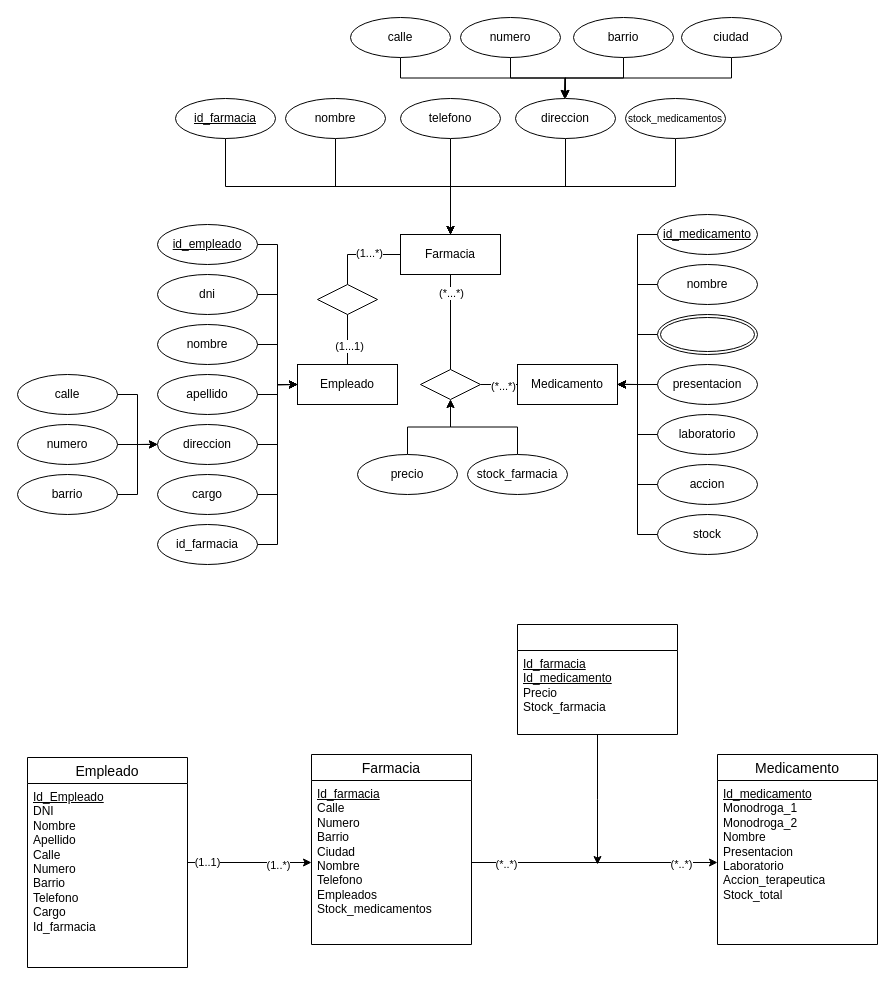
Some shapes in this 895 by 988 pixel diagram are drawn without their labels. Each missing label, with the box of its shape:
Farmacia_x_Medic: (516, 624, 678, 734)
monodroga: (656, 314, 758, 354)
